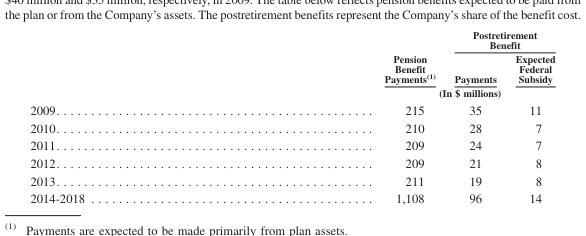table: (29, 28, 554, 205)
table column: (233, 28, 444, 205), (29, 28, 233, 205), (444, 28, 505, 205), (505, 28, 554, 205)
table column header: (29, 28, 554, 100)
table row: (29, 51, 554, 85), (29, 28, 554, 51), (29, 100, 554, 118), (29, 118, 554, 136), (29, 153, 554, 171), (29, 171, 554, 189), (29, 136, 554, 153), (29, 189, 554, 205), (29, 85, 554, 100)
table spanning cell: (233, 28, 444, 85), (233, 85, 554, 100), (444, 28, 554, 51)
